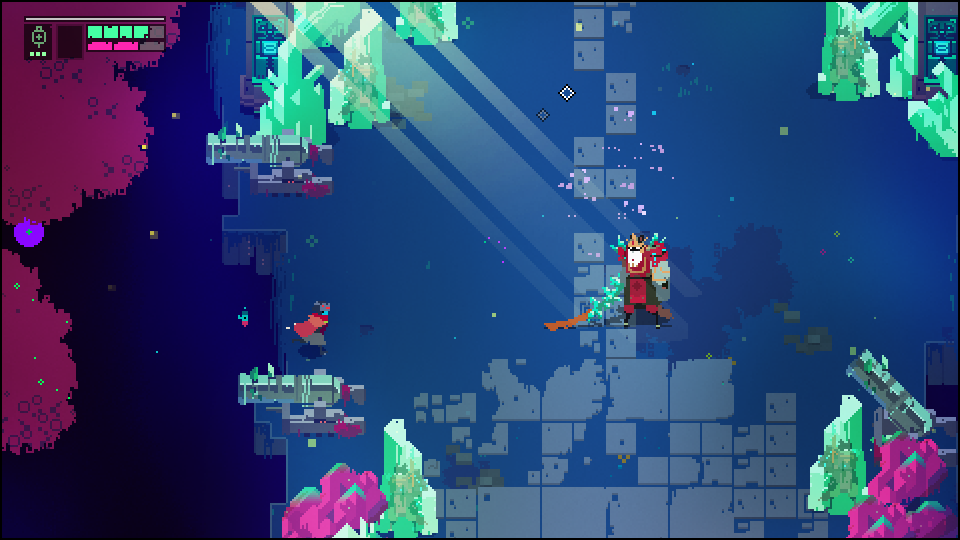hanged_man: (586, 232, 668, 331)
player: (293, 301, 332, 352)
